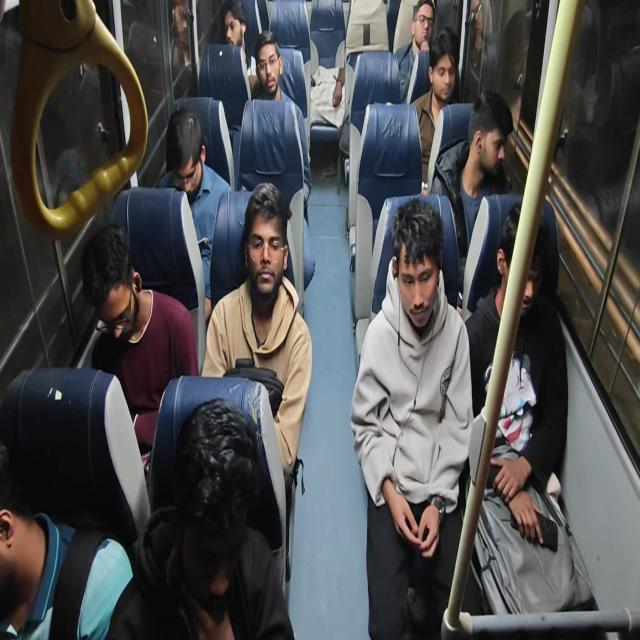person: (113, 384, 277, 640), (489, 151, 576, 406), (0, 398, 92, 630), (381, 227, 475, 397), (472, 103, 546, 253), (66, 234, 124, 341), (169, 96, 222, 212), (222, 201, 272, 304), (300, 40, 350, 131), (411, 0, 456, 92), (426, 44, 471, 119), (248, 45, 288, 101), (222, 2, 246, 52)
